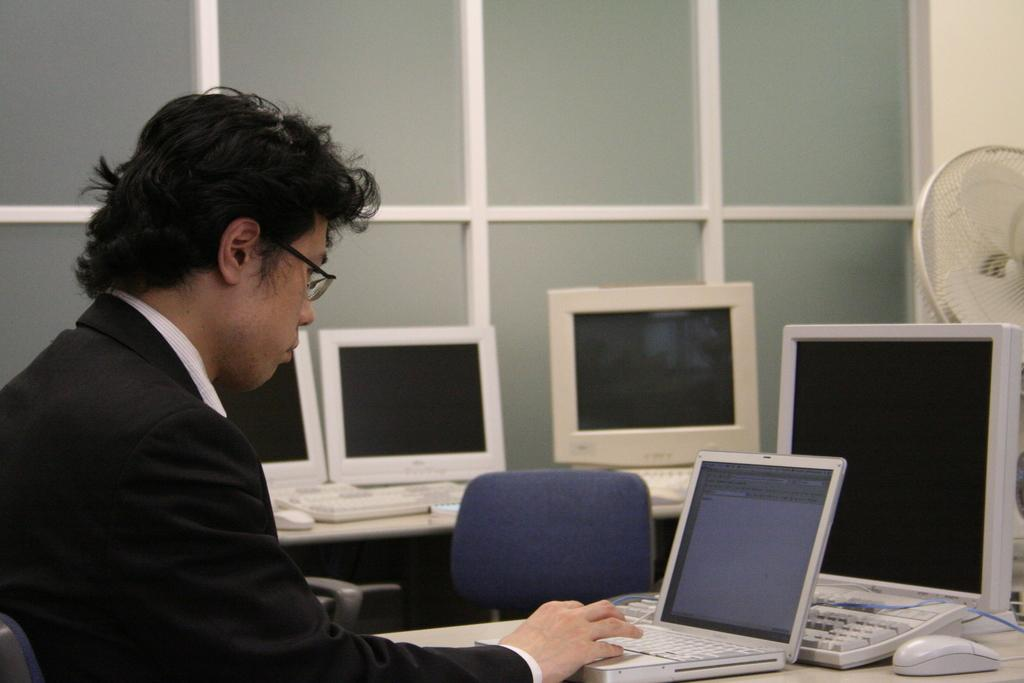Chair: (449, 468, 656, 621)
Computer-monitor: (543, 277, 762, 472)
Laptop: (474, 448, 847, 682)
